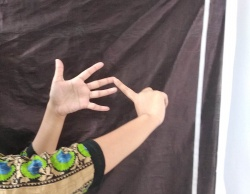u: (49, 54, 143, 121)
